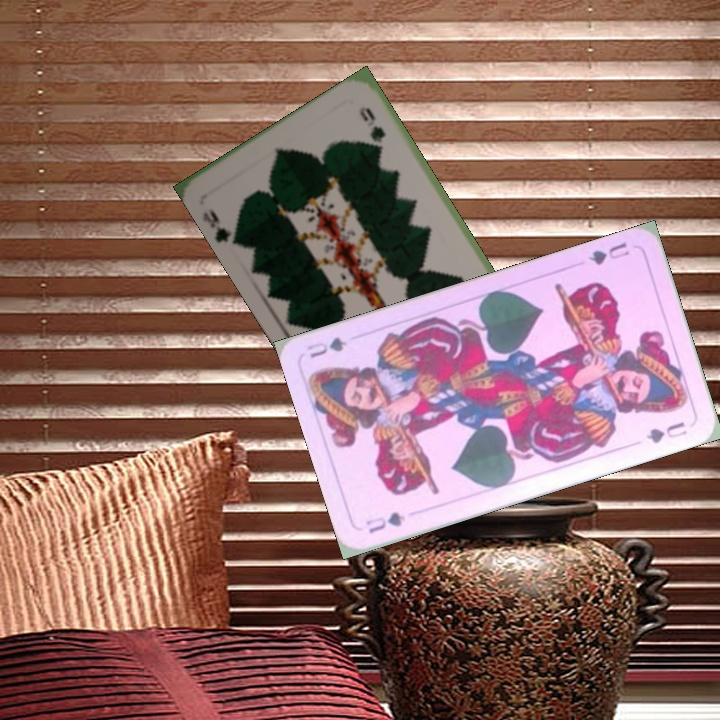G9: (199, 205, 240, 248)
GU: (584, 238, 632, 268), (361, 508, 408, 537)
